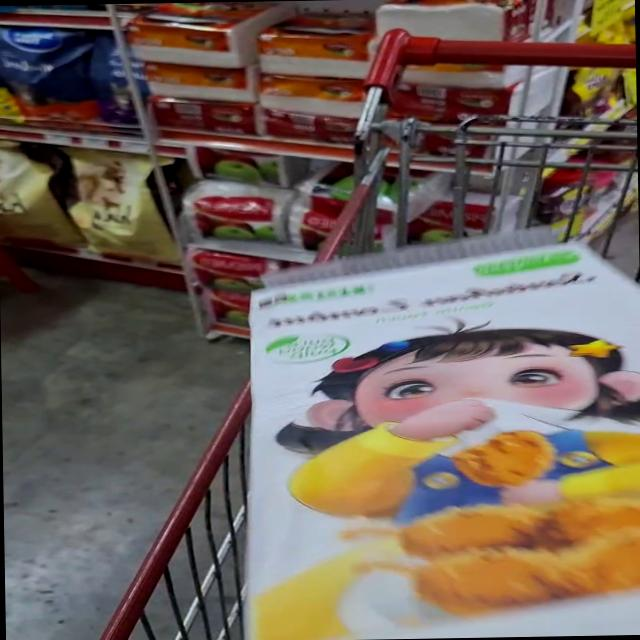Tisu: (214, 376, 640, 640), (208, 218, 634, 432)
